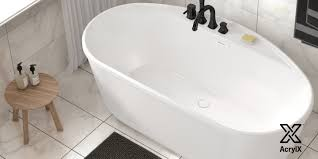bathub: (79, 2, 314, 159)
